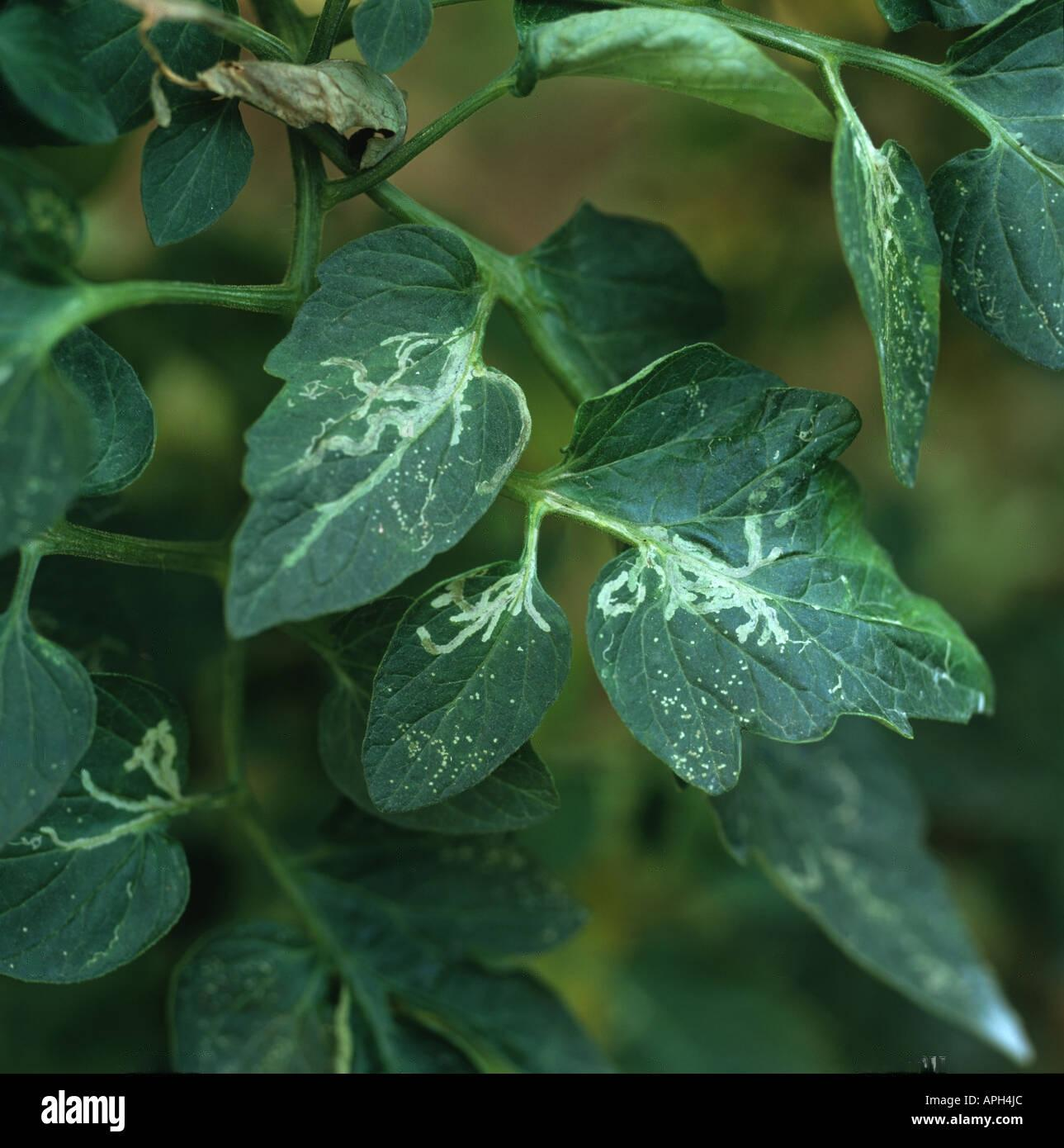Leaf_Miner: (561, 328, 1001, 795), (213, 219, 534, 640), (0, 607, 194, 993), (359, 555, 574, 820), (825, 99, 949, 493)
